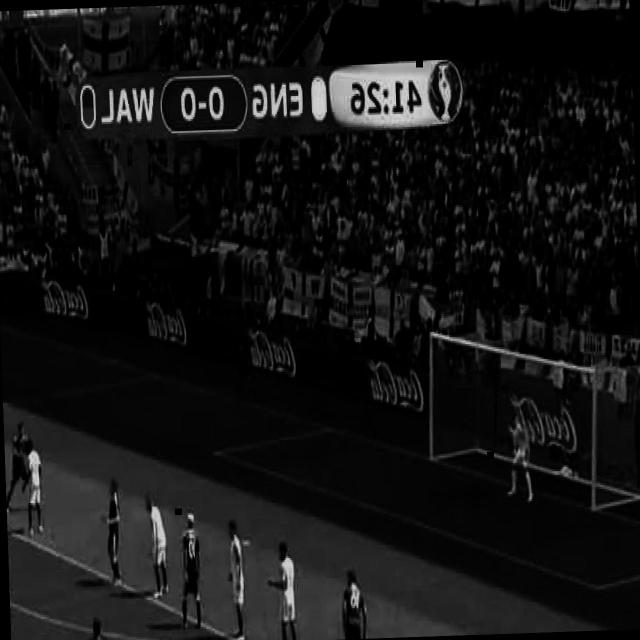player-white: (266, 542, 300, 640), (178, 512, 205, 628), (144, 490, 170, 599), (504, 412, 534, 503), (227, 518, 249, 640), (4, 422, 32, 509), (21, 440, 44, 539), (102, 476, 122, 586), (339, 569, 369, 639), (232, 320, 255, 400), (79, 616, 111, 640)
